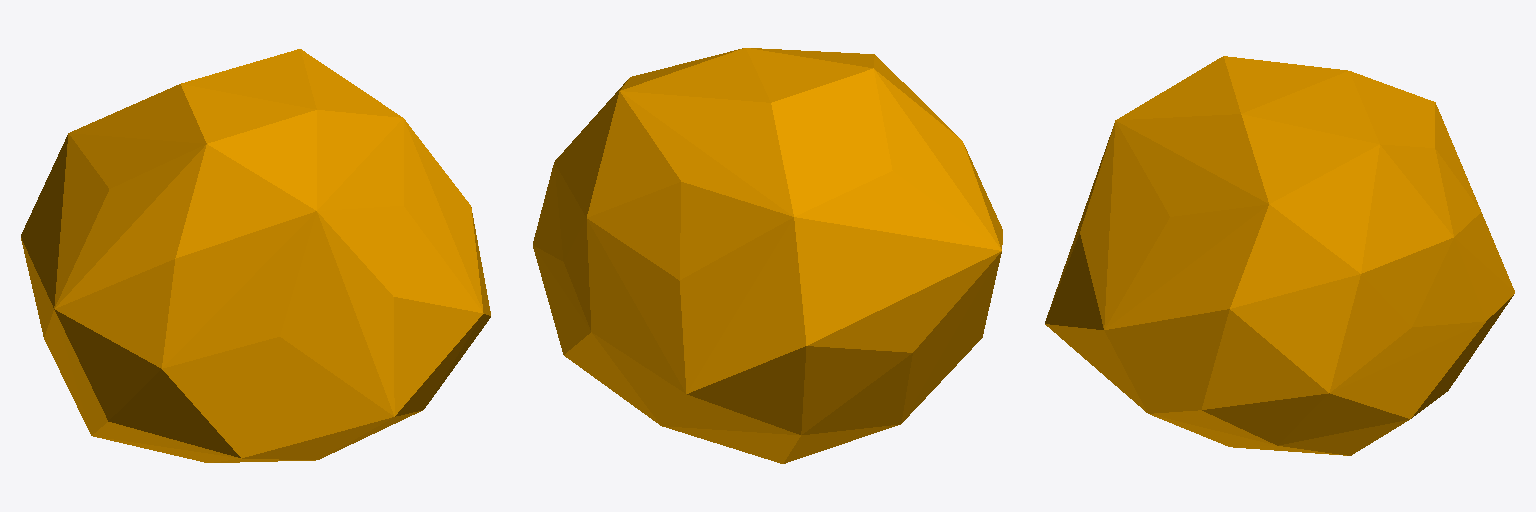
robot.urdf — ic931:
<?xml version="1.0"?>
<robot name="ic931">
  <link name="link">
    <contact>
      <lateral_friction value="0.6"/>
    </contact>
    <inertial>
      <mass value = "0.9325473987568019"/>
      <inertia ixx="0.0007277490181151892" ixy="1.1429430250516035e-19" ixz="-5.634974914207906e-20" iyy="0.0007538499645365394" iyz="-1.1323109969115885e-19" izz="0.0008487729982861018" />
    </inertial>
    <visual name="visual">
      <geometry>
        <mesh filename="ic931.obj"/>
      </geometry>
    </visual>
    <collision name="collision">
      <geometry>
        <mesh filename="ic931.obj"/>
      </geometry>
    </collision>
  </link>
</robot>

--- Render facts (derived) ---
The picture shows the robot from 3 angles, left to right: view 1: azimuth 30°, elevation 25°; view 2: azimuth 150°, elevation 25°; view 3: azimuth 270°, elevation 25°; orthographic projection.
Model ic931 with 1 links and 0 joints (none), rooted at link, posed all joints at 0.
Links seen in each view (by area): view 1: link; view 2: link; view 3: link.
Link boxes in pixels (x1,y1,x2,y2): link: (21, 49, 490, 462); link: (533, 48, 1002, 463); link: (1045, 56, 1514, 455).
Size in the robot's own frame: 0.1047 by 0.1027 by 0.0851 metres.
Meshes: 1 distinct files referenced, 1 mesh visuals loaded (1 OBJ).
